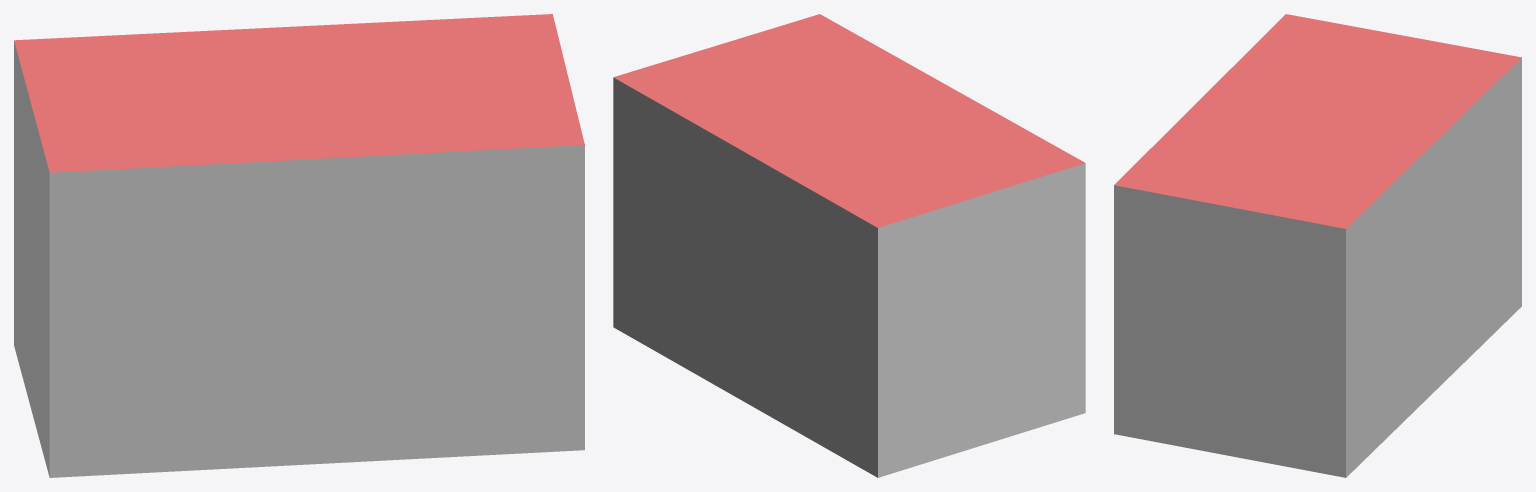
Rendered from DEBY_LOD2_4908130.gltf.
3 views of the same model, side by side, from view 1: azimuth 30°, elevation 25°; view 2: azimuth 150°, elevation 25°; view 3: azimuth 270°, elevation 25° (orthographic). The views are drawn at different scales.
Parts seen in each view (by area): view 1: Z_UP; view 2: Z_UP; view 3: Z_UP.
Boxes of the visible parts, <box> form: Z_UP: <box>14,14,584,477</box>; Z_UP: <box>613,14,1085,477</box>; Z_UP: <box>1114,14,1521,477</box>.
Bounding box in the file's own units: 5.15 × 2.78 × 4.13.
